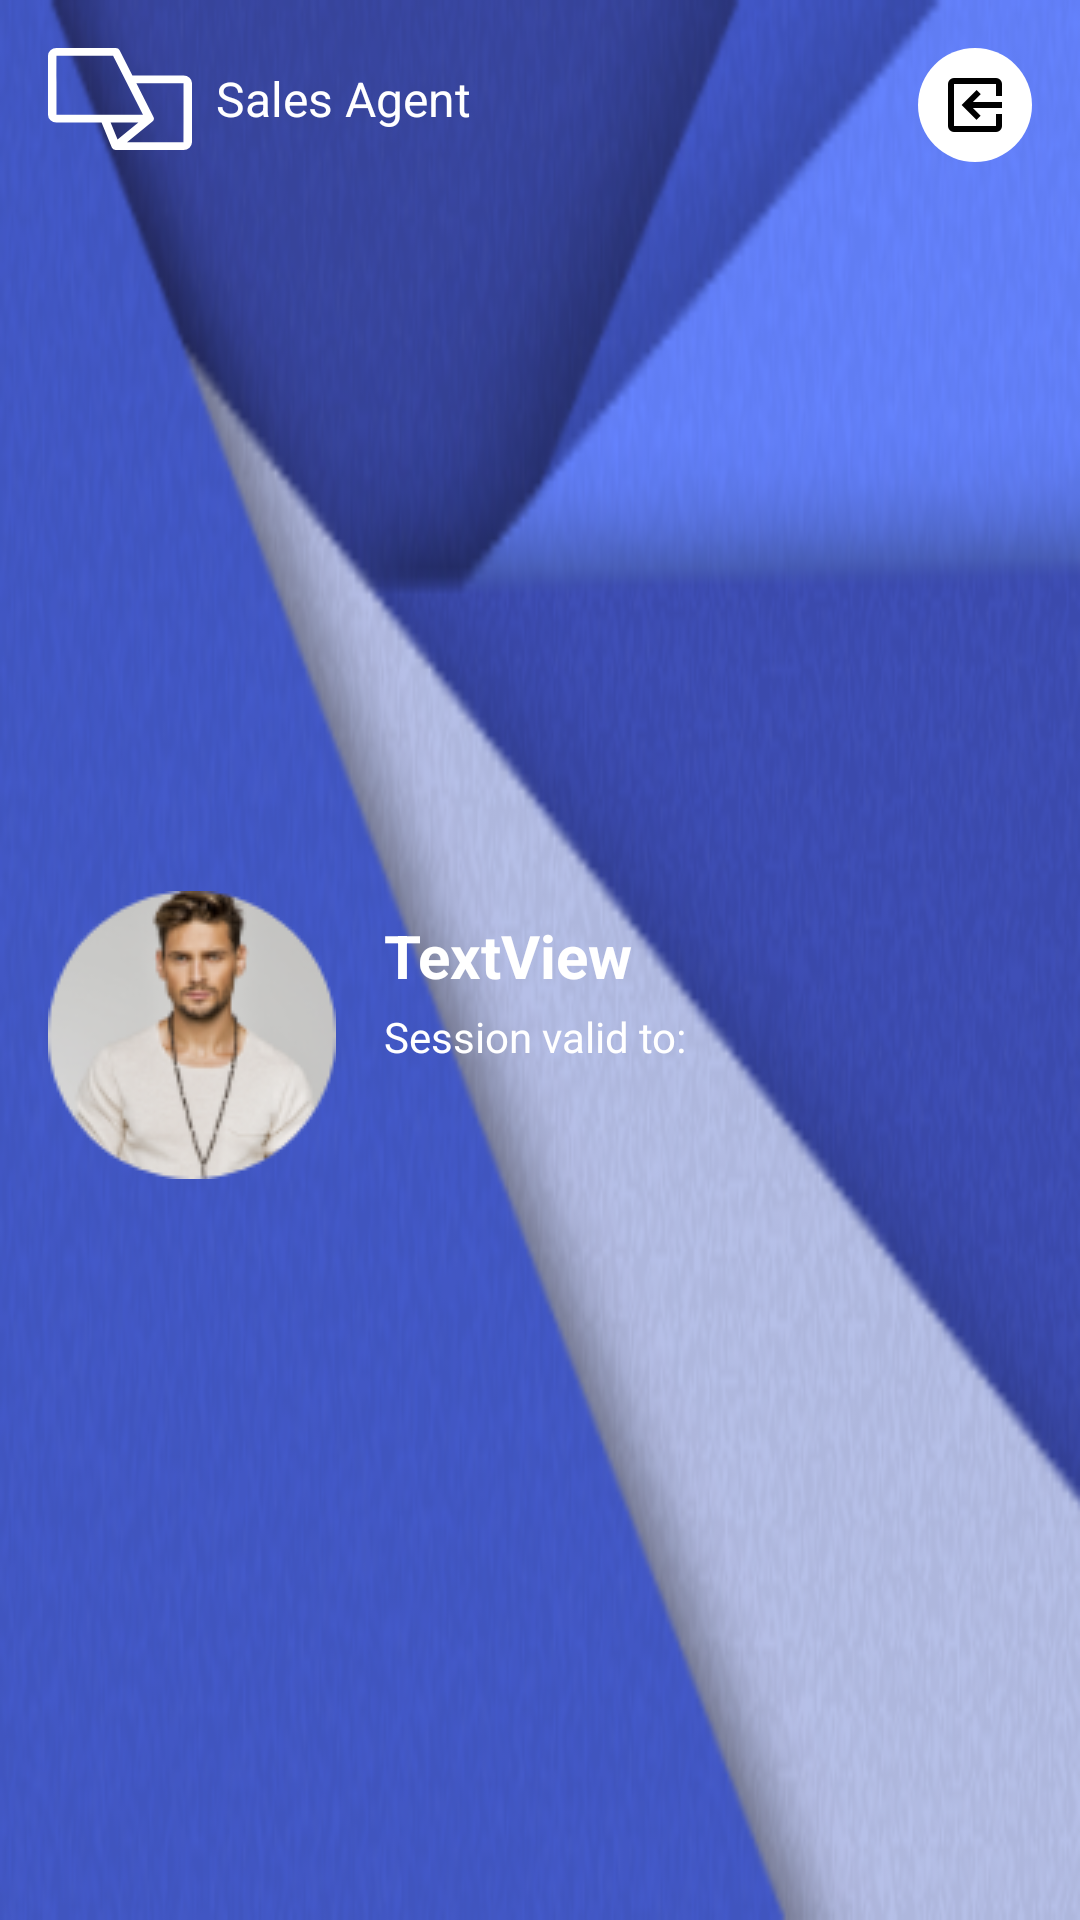

Icon click points for this 1080px×1920px phone screenshot, format (x,y):
log out: (975,105)
